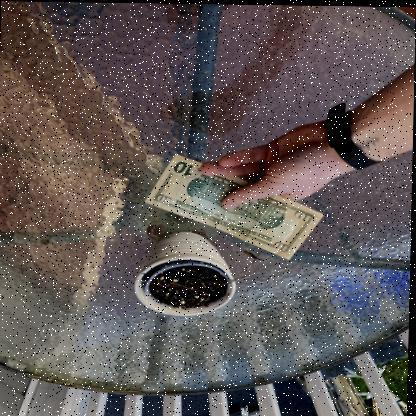ten-back: (144, 152, 324, 258)
